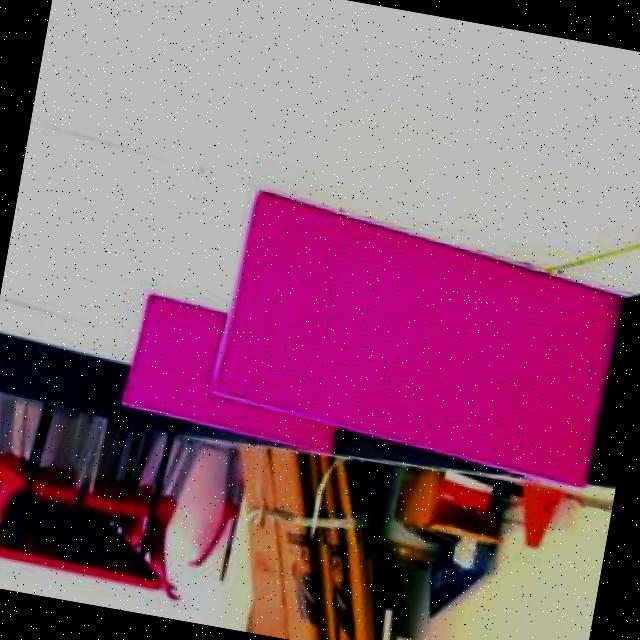xparking: (213, 204, 628, 462), (125, 301, 222, 421)
